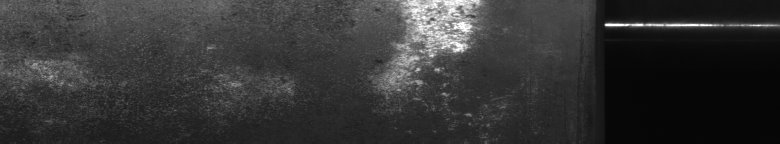kb: (369, 4, 506, 126)
